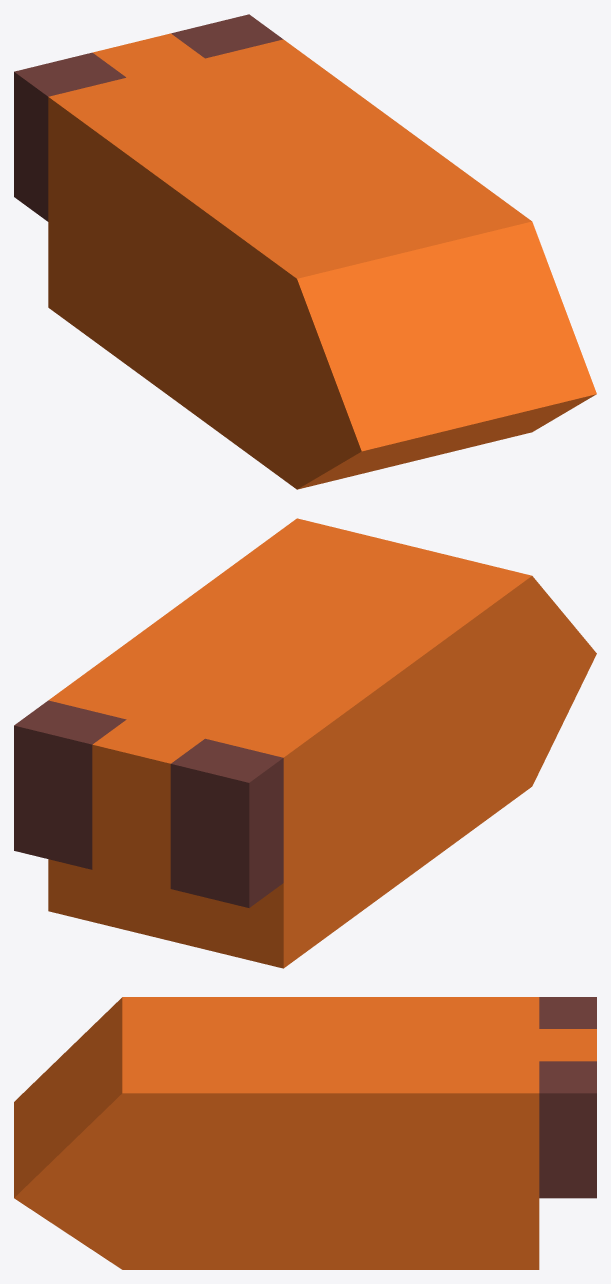
File: object_bee.glb
3 renders of one model, top to bottom at view 1: azimuth 30°, elevation 25°; view 2: azimuth 150°, elevation 25°; view 3: azimuth 270°, elevation 25°, orthographic. The views are drawn at different scales.
Visible parts, largest first — view 1: bee; view 2: bee; view 3: bee.
Boxes of the visible parts, left/top/right/bottom form: bee: left=14, top=14, right=596, bottom=489; bee: left=14, top=518, right=596, bottom=968; bee: left=14, top=997, right=596, bottom=1269.
Bounding box in the file's own units: 0.00248 × 0.00212 × 0.00634.
